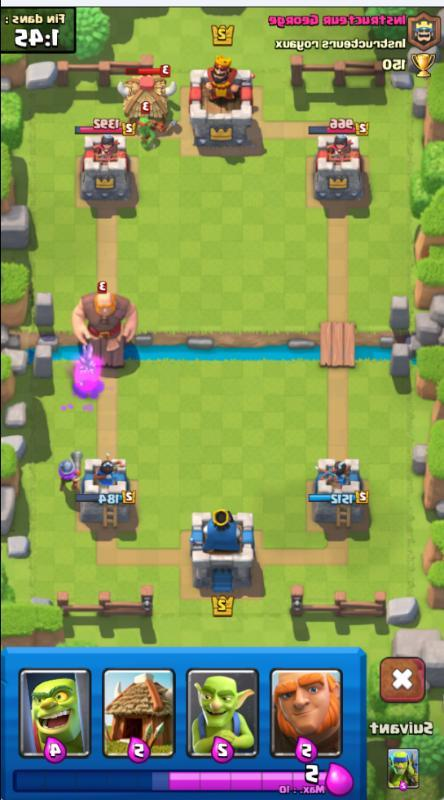enemy_giant: (70, 279, 141, 361)
enemy_goblin_hut: (115, 65, 178, 132)
enemy_spear_goblins: (134, 115, 158, 150)
